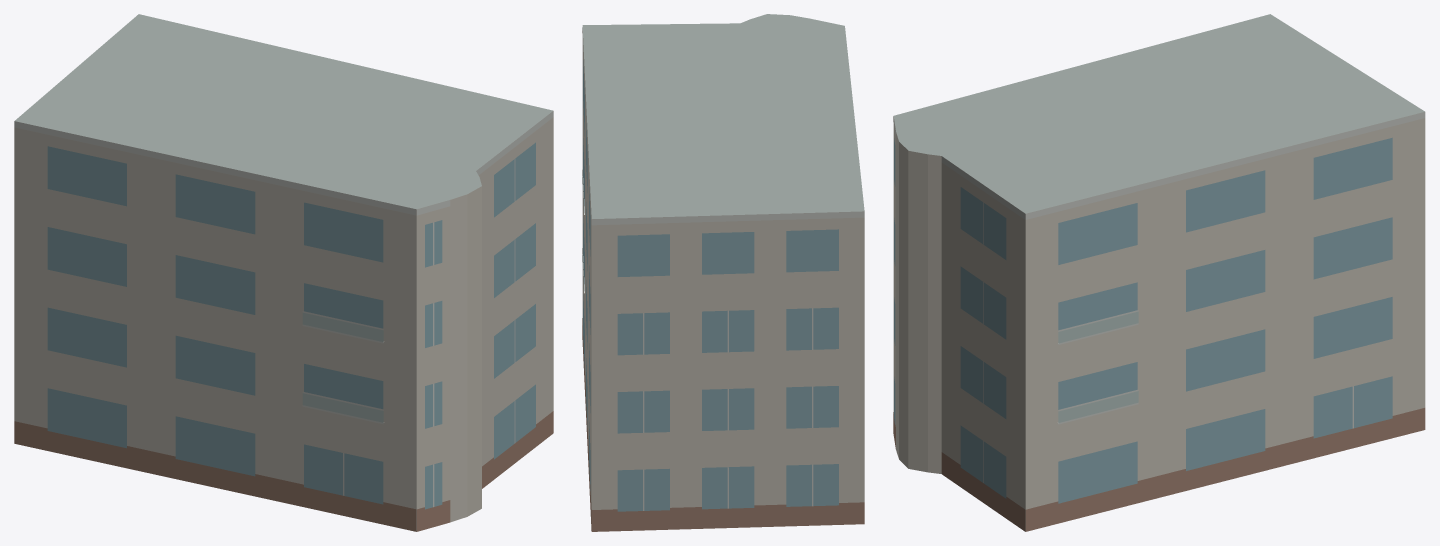
The model's file is survey-upis-32759975.glb.
3 renders of one model, left to right at view 1: azimuth 30°, elevation 25°; view 2: azimuth 150°, elevation 25°; view 3: azimuth 270°, elevation 25°, orthographic. The views are drawn at different scales.
Parts seen in each view (by area): view 1: survey-upis-32759975.tmp; view 2: survey-upis-32759975.tmp; view 3: survey-upis-32759975.tmp.
Part boxes in pixels (box(x1,y1,x2,y2)): survey-upis-32759975.tmp: box(14, 14, 553, 531); survey-upis-32759975.tmp: box(582, 14, 864, 531); survey-upis-32759975.tmp: box(893, 14, 1425, 531).
Bounding box in the file's own units: 16.71 × 12.4 × 18.8.
